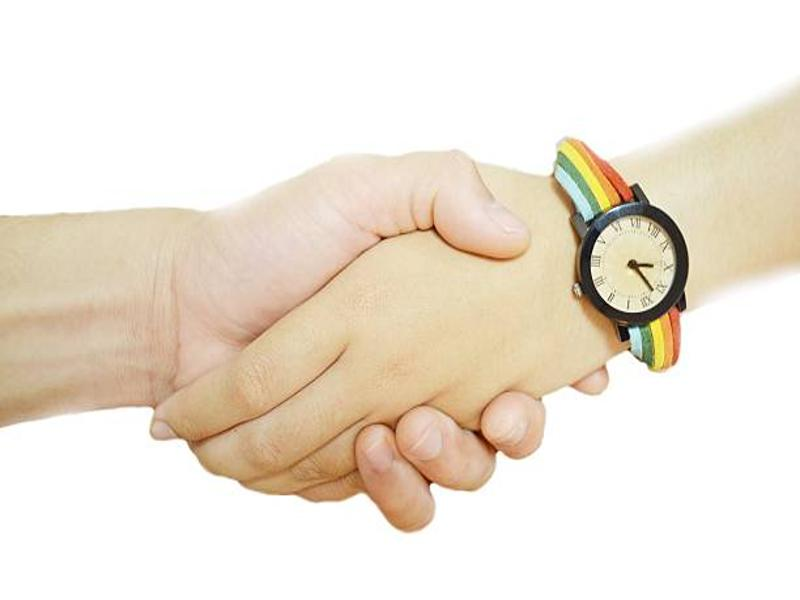watch: (550, 135, 692, 376)
